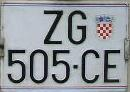.: (73, 63, 80, 72)
0: (28, 49, 48, 84)
5: (7, 49, 27, 84), (53, 49, 70, 83)
C: (81, 49, 100, 84)
E: (103, 49, 122, 84)
G: (67, 9, 88, 45)
Z: (43, 9, 64, 45)
